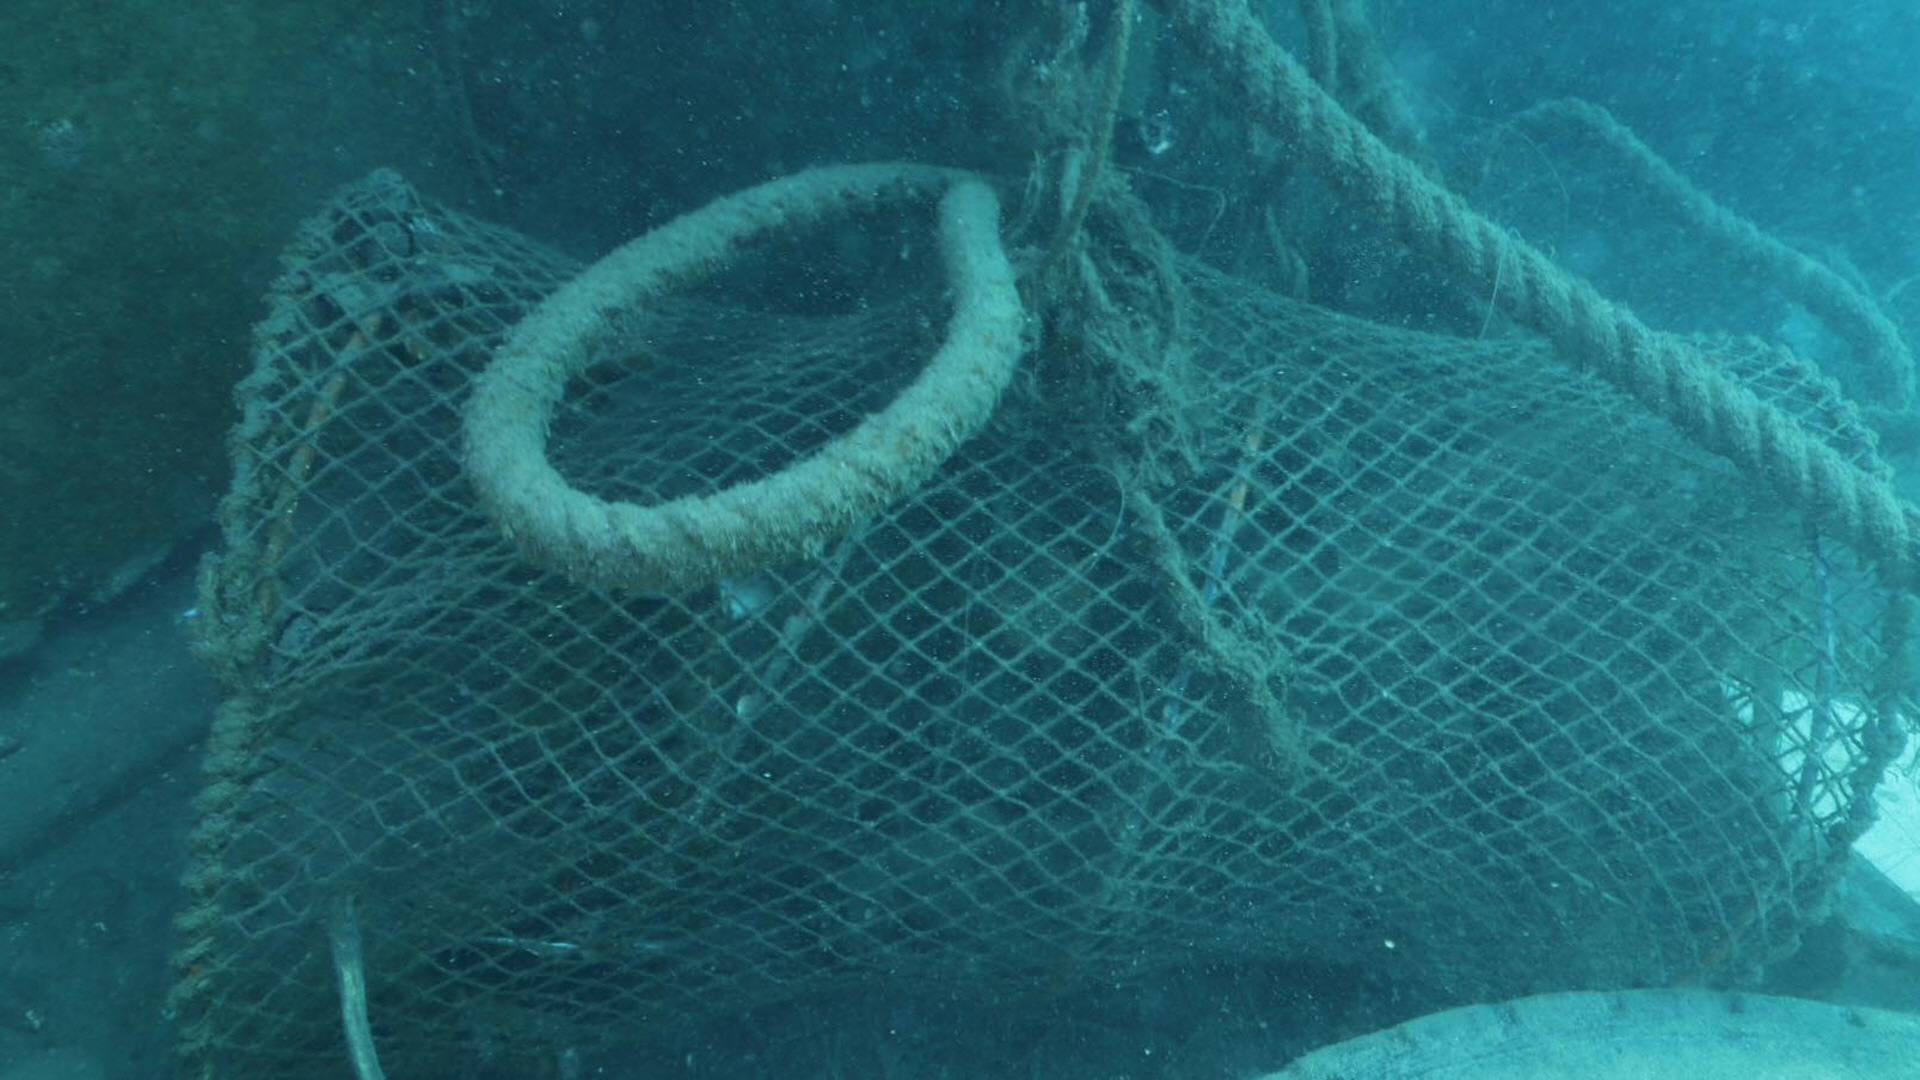rope: (1155, 0, 1920, 571), (462, 165, 1029, 580), (1547, 96, 1920, 415)
spring fish trap: (157, 165, 1911, 1071)
